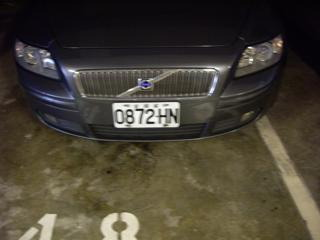plate: (108, 100, 182, 131)
